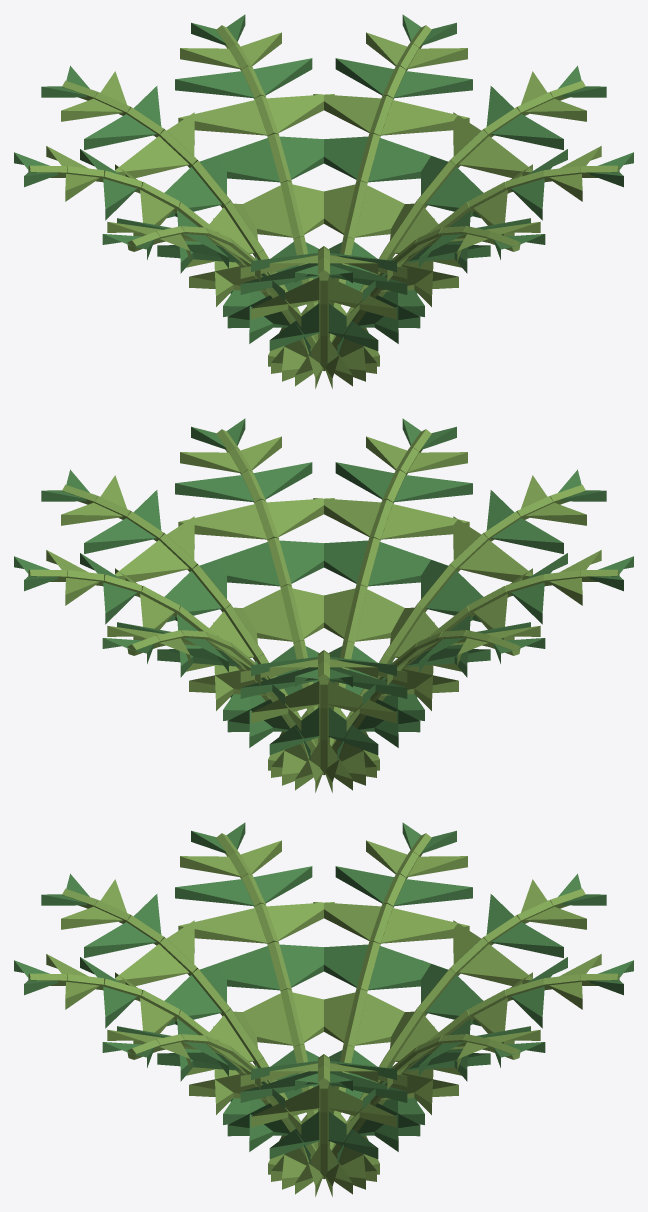
File: fern.glb
3 views of the same model, one above another, from view 1: azimuth 30°, elevation 25°; view 2: azimuth 150°, elevation 25°; view 3: azimuth 270°, elevation 25° (orthographic).
Visible parts, largest first — view 1: fern; view 2: fern; view 3: fern.
Part boxes in pixels (x1=…): fern: x1=14, y1=14, x2=633, y2=388; fern: x1=14, y1=418, x2=633, y2=792; fern: x1=14, y1=822, x2=633, y2=1196.
Bounding box in the file's own units: 1.73 × 0.7129 × 1.76.
